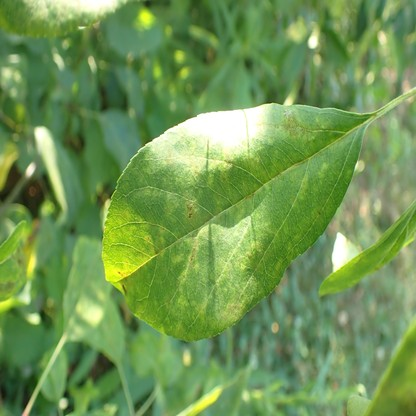scab: (116, 109, 329, 320), (0, 247, 27, 293)
